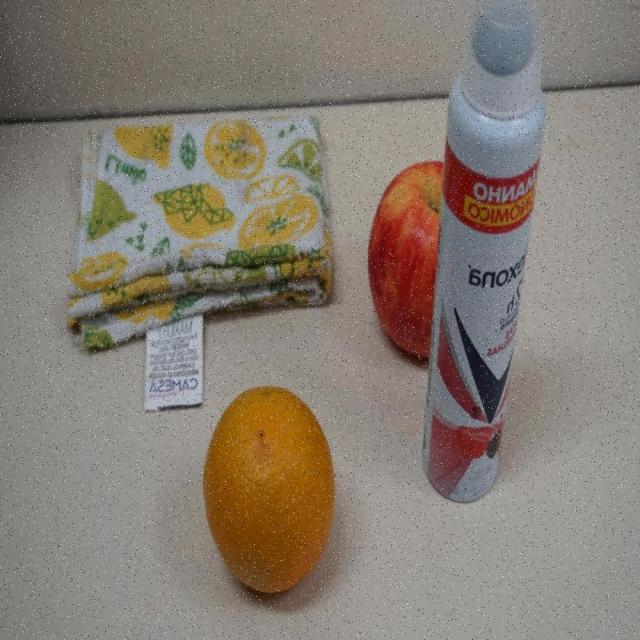Apple: (367, 162, 444, 361)
Cloth: (66, 111, 335, 413)
Orange: (202, 388, 337, 599)
